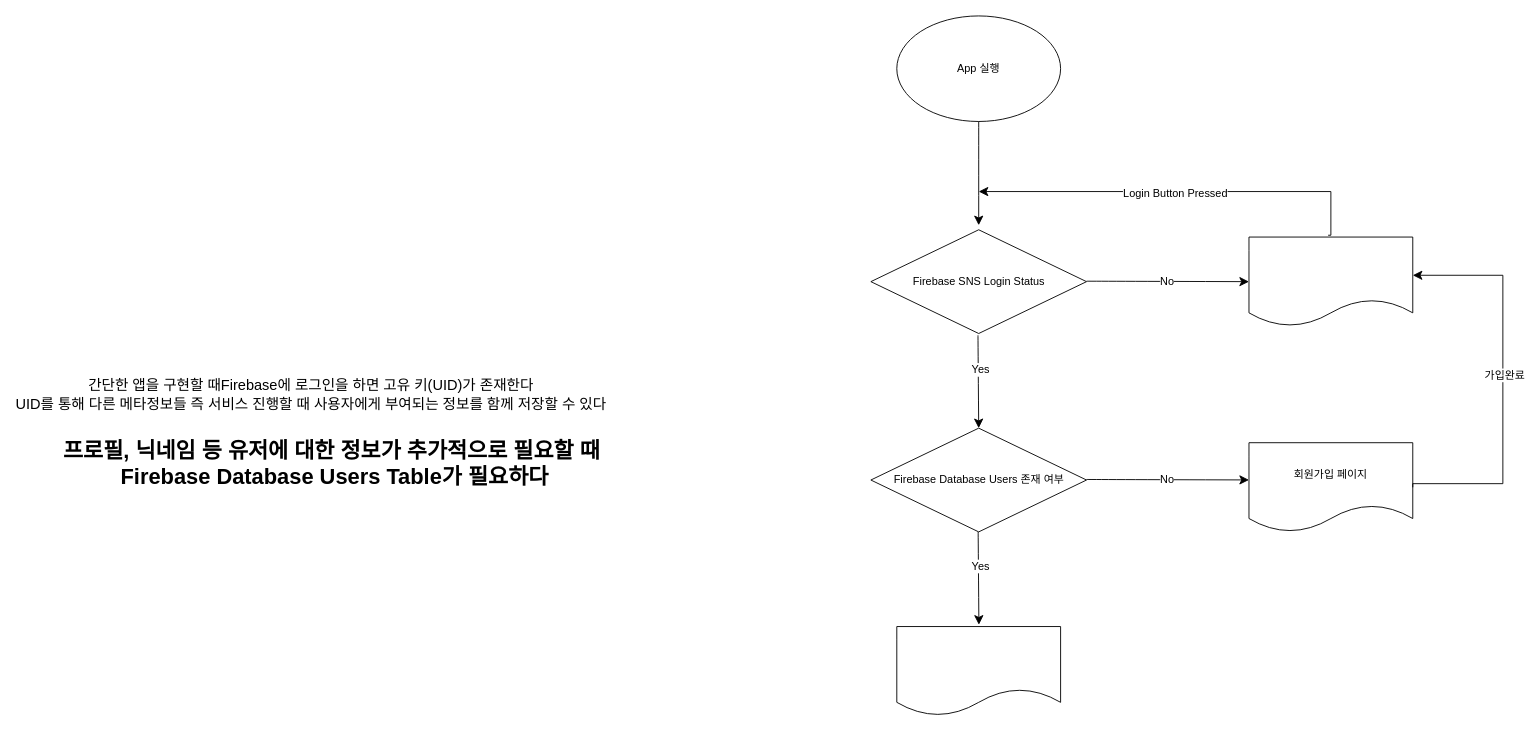
Some shapes in this 1540 by 732 pixel diagram are drawn without their labels. Each missing label, with the centre of its shape:
"Main 페이지" belongs at pixel 978 671.
"로그인 페이지" belongs at pixel 1330 281.
